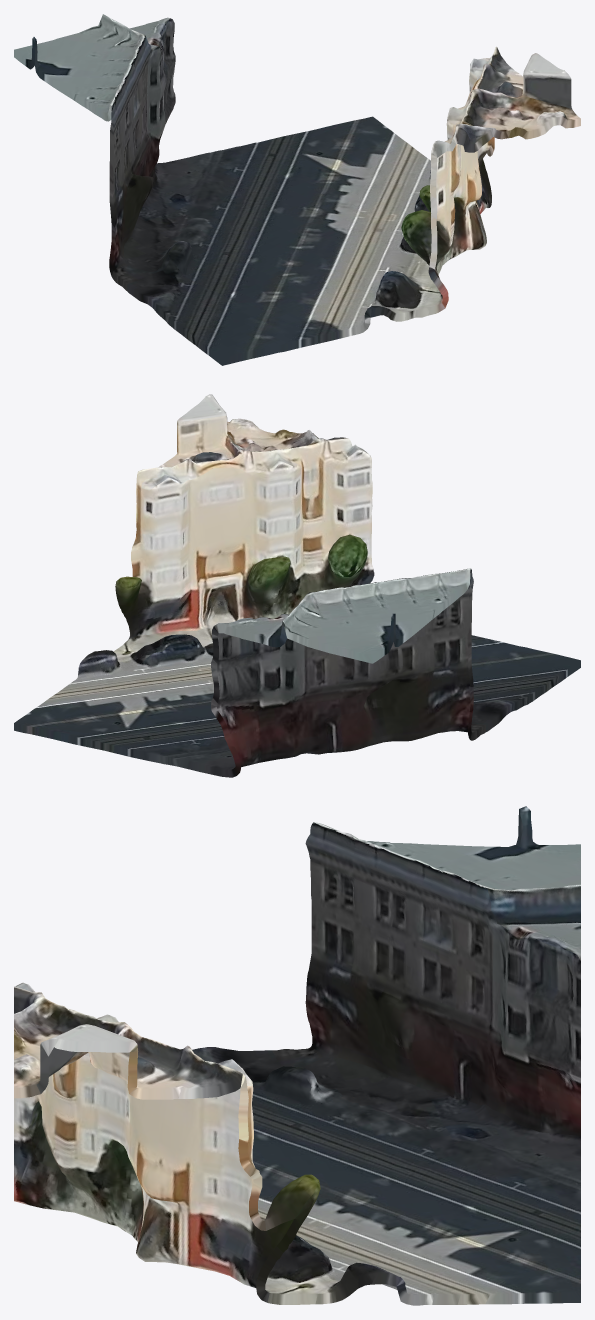
File: z20-167730-405192-h0-yup-uvflip-v3-world.glb
3 views of the same model, one above another, from view 1: azimuth 30°, elevation 25°; view 2: azimuth 150°, elevation 25°; view 3: azimuth 270°, elevation 25° (orthographic). The views are drawn at different scales.
Size of the model in its own units: 30.16 by 15.88 by 30.32.
1 material, 1 textured.
